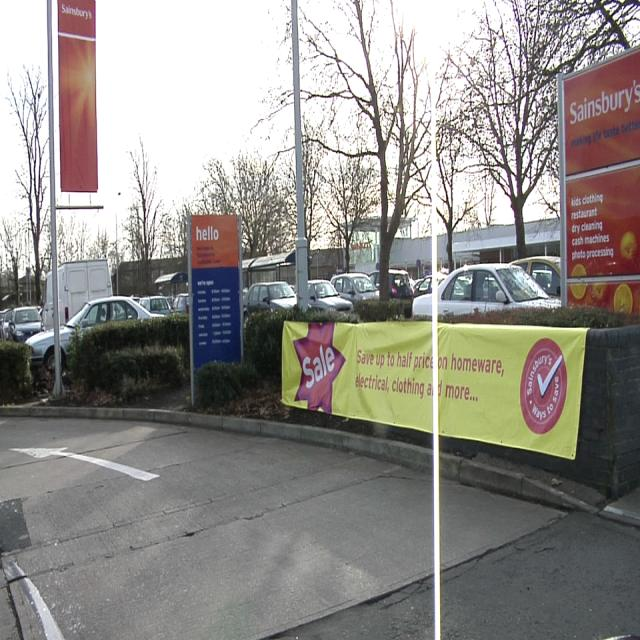Car: (438, 264, 560, 323), (60, 297, 159, 362), (309, 276, 377, 310), (1, 307, 44, 340), (245, 282, 295, 309), (26, 330, 54, 366), (140, 297, 172, 316), (413, 289, 431, 319)
Road: (5, 416, 639, 635), (444, 512, 639, 639)
Tree: (299, 1, 631, 292), (107, 5, 295, 286), (1, 66, 49, 300)
